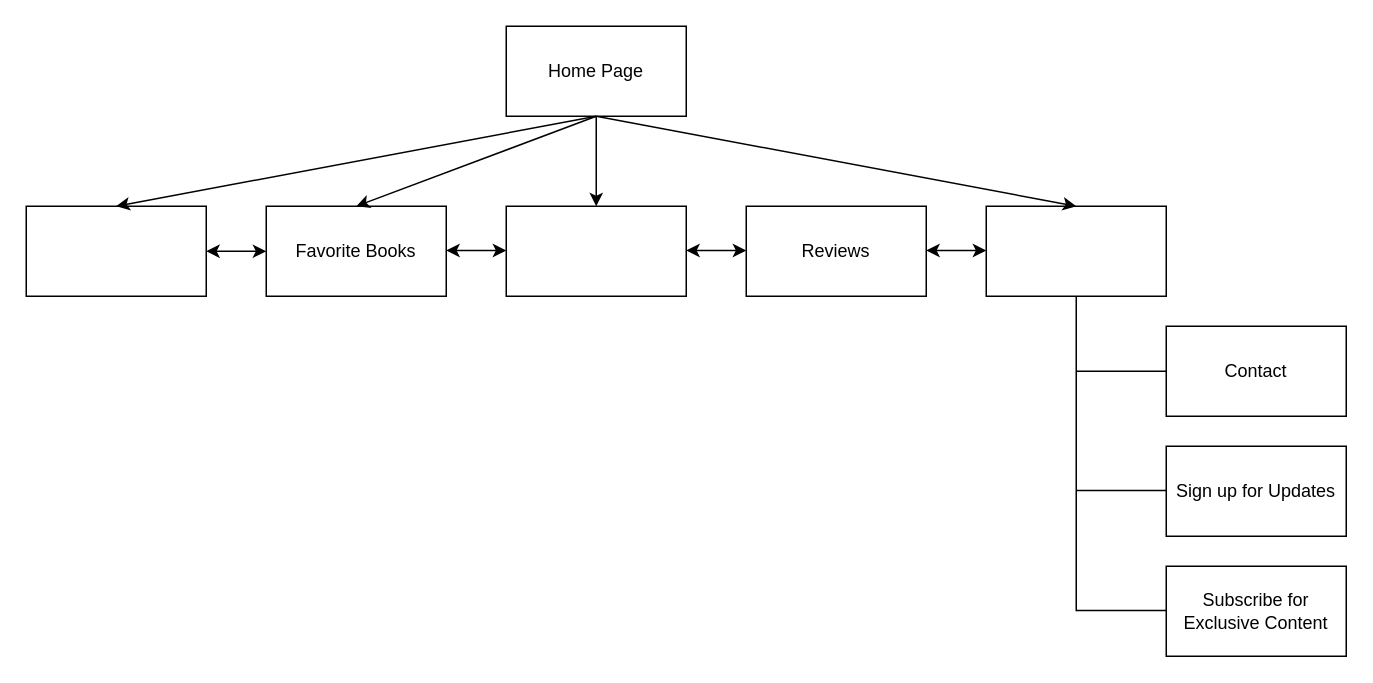
Image size: 1373x683. Some labels were removed from this diagram. Here are the shapes that lost their labels. From the top down, the centre of each, then its label:
point 115,250: About
point 595,250: Recommendations
point 1075,250: Newsletter
